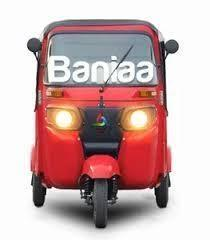keke: (26, 16, 180, 224), (39, 12, 180, 223)
